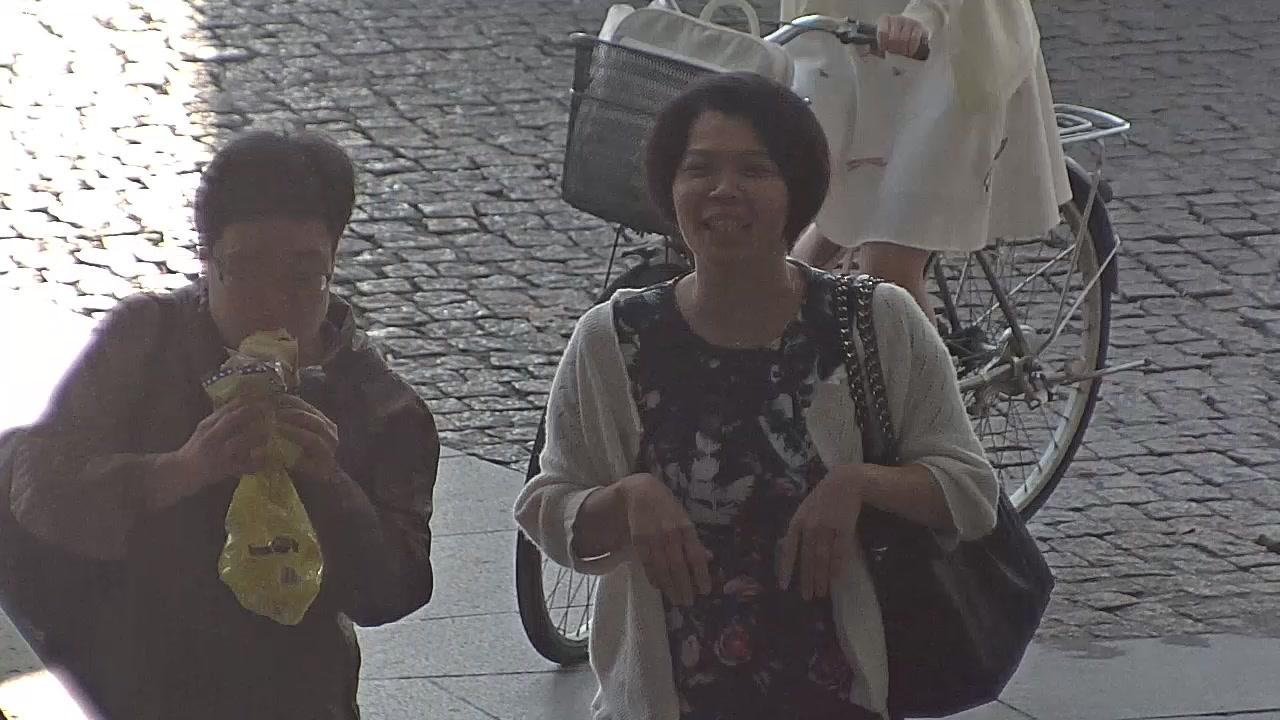person: (513, 0, 1156, 666), (512, 71, 1056, 720), (0, 130, 438, 720), (775, 0, 1074, 344)
